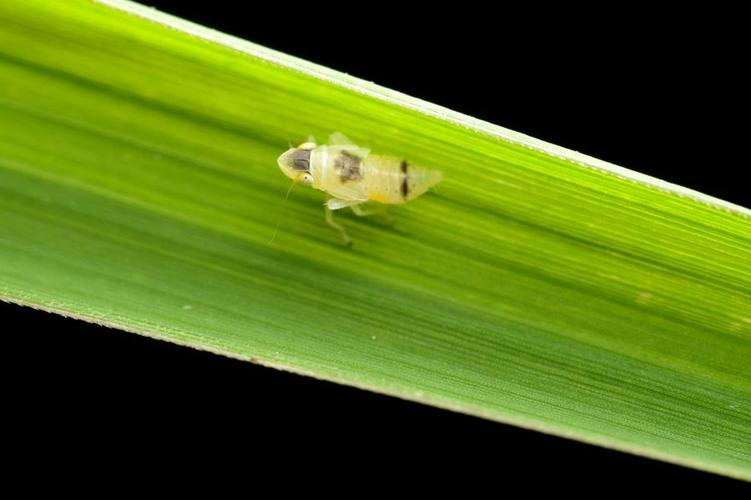Cicadellidae: (272, 135, 441, 237)
